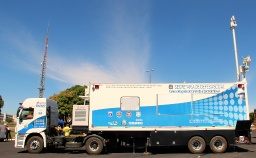truck: (13, 80, 251, 155)
